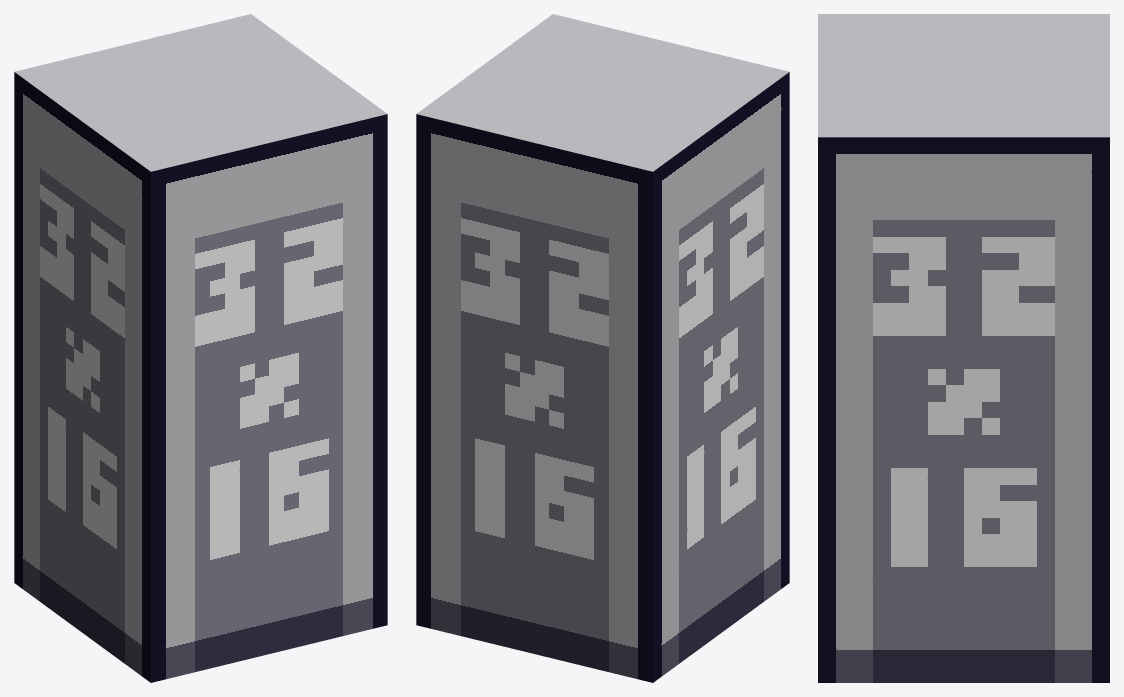
3 views of the same model, side by side, from view 1: azimuth 30°, elevation 25°; view 2: azimuth 150°, elevation 25°; view 3: azimuth 270°, elevation 25° (orthographic). The views are drawn at different scales.
Parts seen in each view (by area): view 1: Object 24968; view 2: Object 24968; view 3: Object 24968.
Part boxes in pixels (box(x1,y1,x2,y2)): Object 24968: box(14, 14, 387, 682); Object 24968: box(416, 14, 789, 682); Object 24968: box(818, 14, 1109, 682).
Bounding box in the file's own units: 1 × 2.06 × 1.
1 material, 1 textured.
